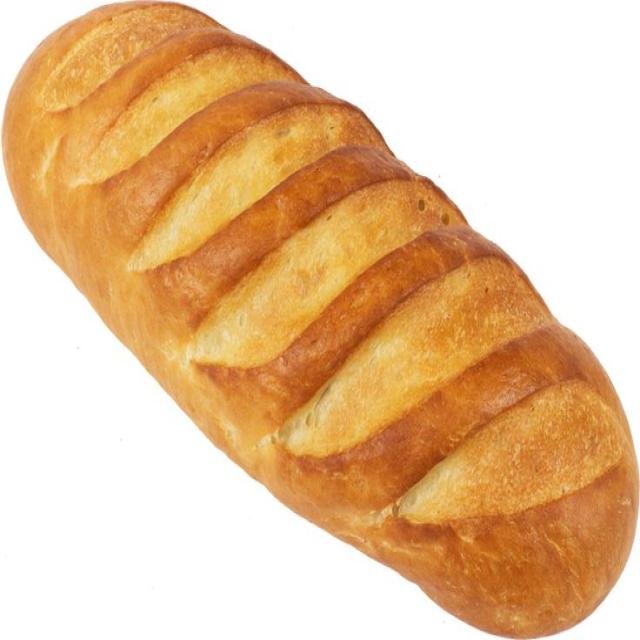bread: (4, 6, 637, 634)
